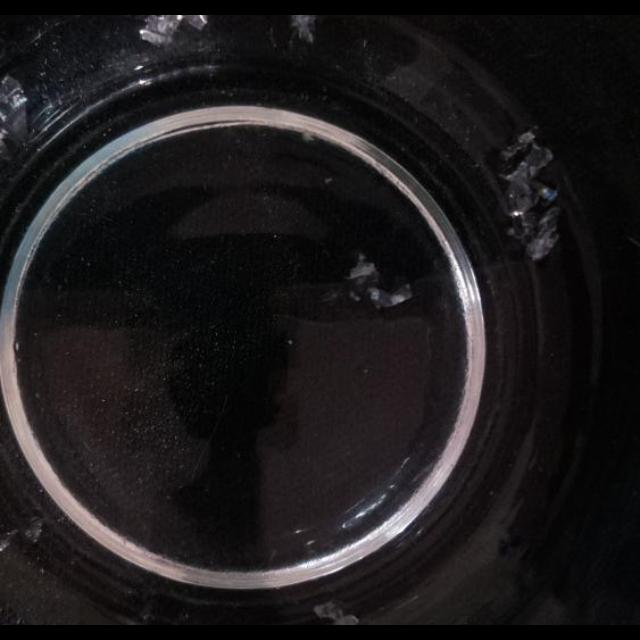Fibre: (498, 134, 562, 260), (344, 253, 414, 311), (140, 15, 203, 48), (314, 600, 358, 624), (289, 15, 317, 43), (22, 520, 44, 544), (302, 132, 318, 142)
